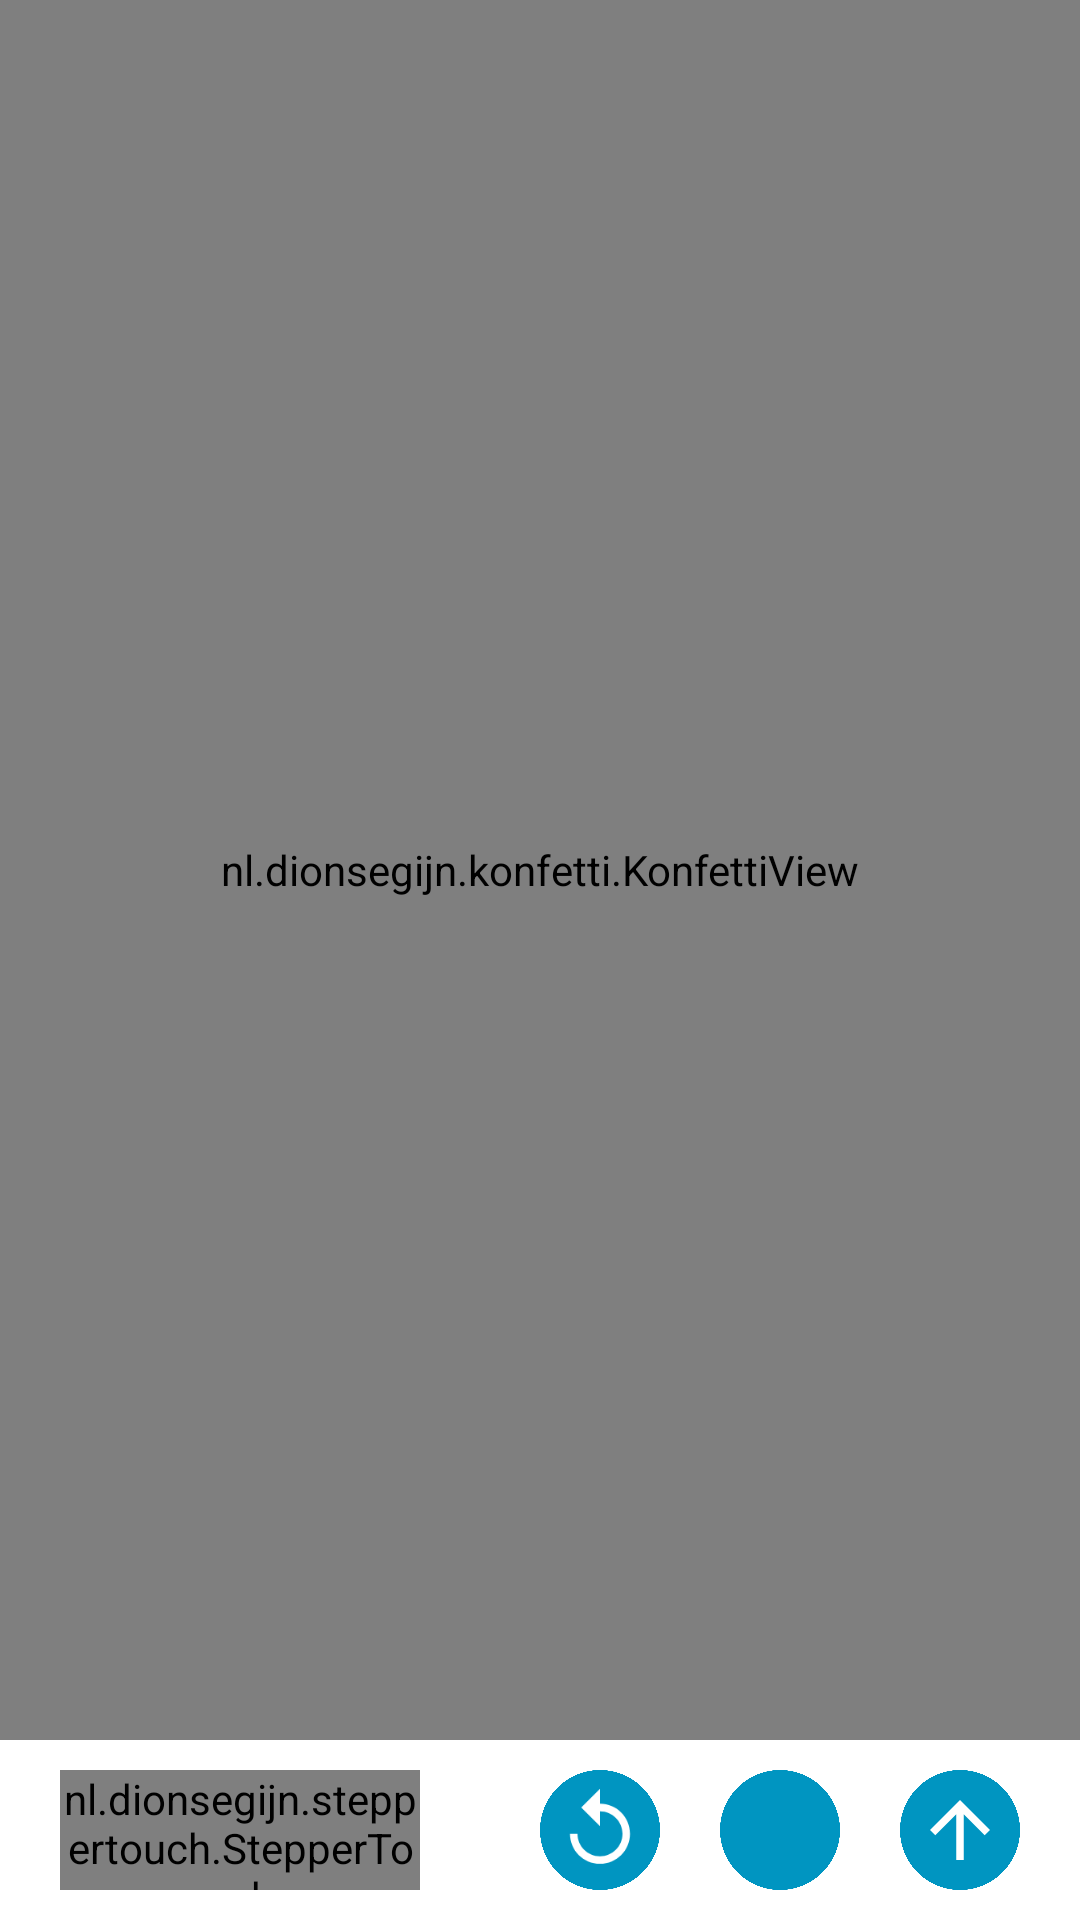

Named icons in this screenshot (1080w x 1920h) and their bounding boxes, (x1, y1, x2, y2):
arrow upward: (900, 1770, 1020, 1890)
replay: (540, 1770, 660, 1890)
